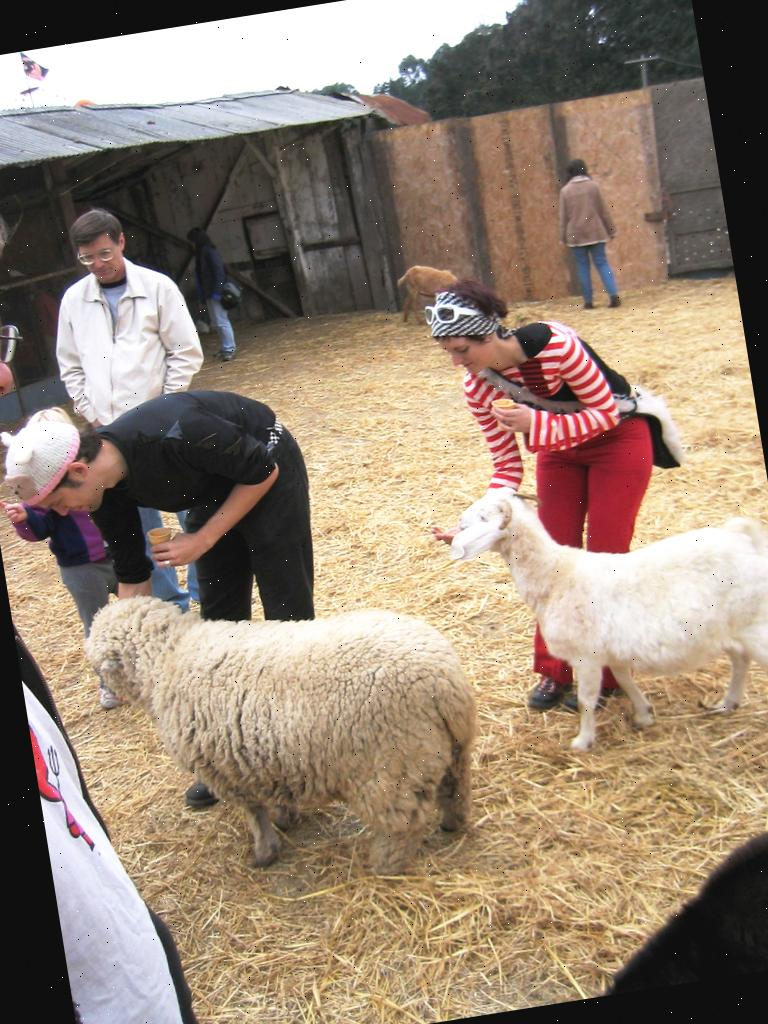Sheep: (75, 538, 502, 918), (443, 446, 768, 771), (396, 259, 464, 324)
